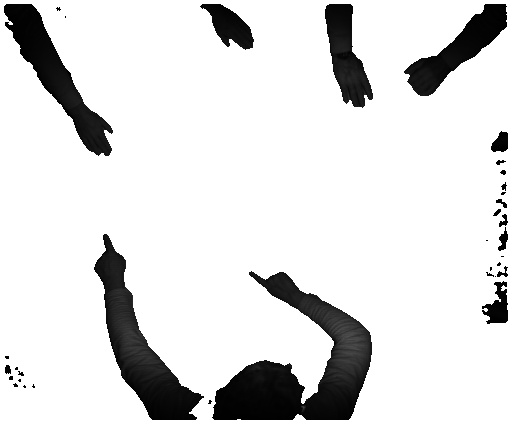fist: (400, 59, 444, 95)
hand: (88, 232, 135, 290), (328, 58, 375, 111), (77, 109, 119, 159), (248, 264, 296, 301), (216, 11, 255, 55)
